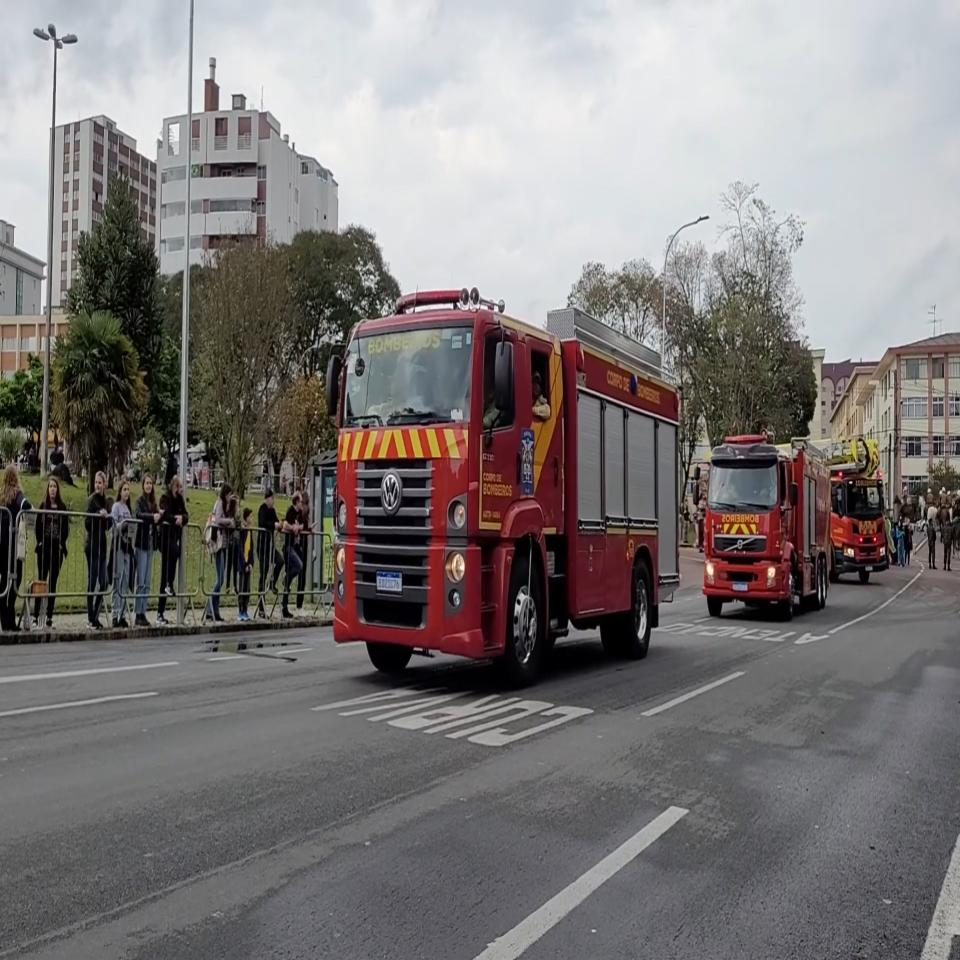viatura: (326, 283, 685, 687), (693, 430, 833, 620), (829, 438, 889, 584)
